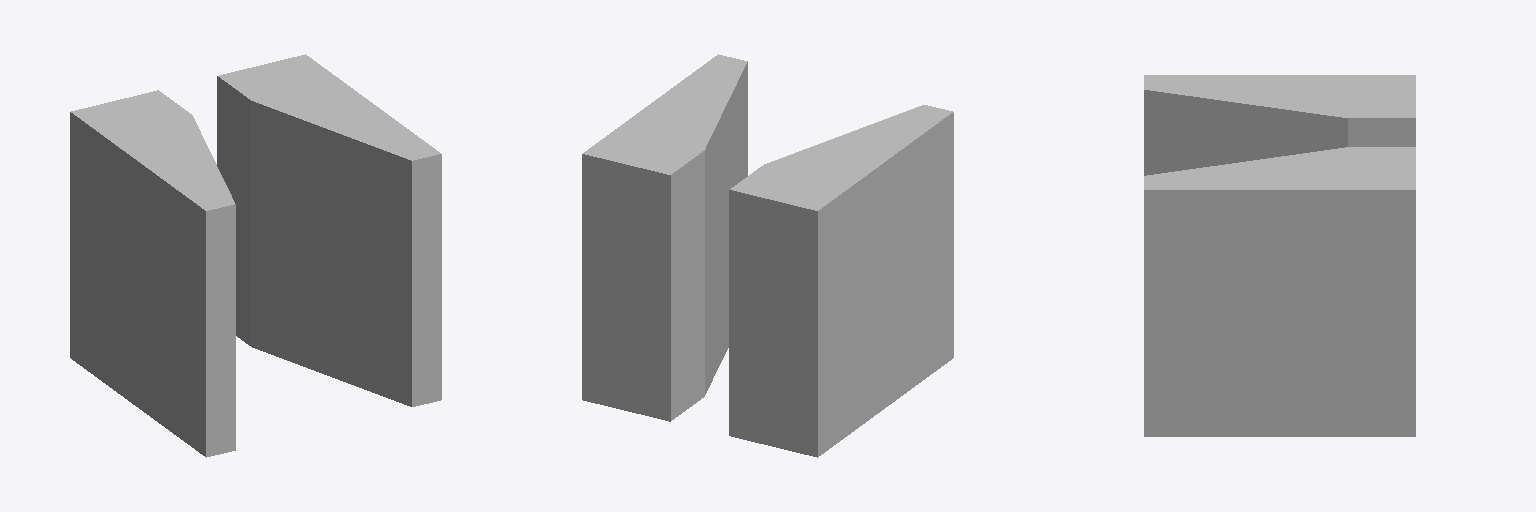
File: arrow_slit_parent.obj
The picture shows the model from 3 angles: view 1: azimuth 30°, elevation 25°; view 2: azimuth 150°, elevation 25°; view 3: azimuth 270°, elevation 25°; orthographic projection.
Parts seen in each view (by area): view 1: cuboid; view 2: cuboid; view 3: cuboid.
Part boxes in pixels (bbox=[...]): cuboid: bbox=[70, 54, 441, 457]; cuboid: bbox=[582, 54, 953, 457]; cuboid: bbox=[1144, 75, 1415, 436].
Bounding box in the file's own units: 1 × 1 × 1.